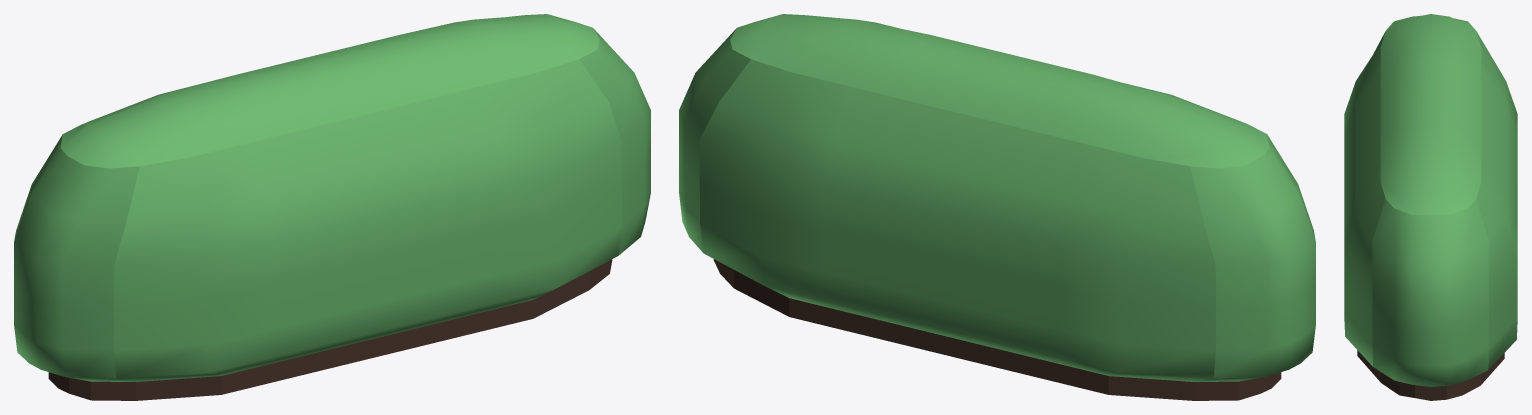
Rendered from hedge.fbx.
The picture shows the model from 3 angles, left to right: view 1: azimuth 30°, elevation 25°; view 2: azimuth 150°, elevation 25°; view 3: azimuth 270°, elevation 25°; orthographic projection. The views are drawn at different scales.
Visible parts, largest first — view 1: pCube1; view 2: pCube1; view 3: pCube1.
Part boxes in pixels (x1,y1,x2,y2): pCube1: (14,14,650,400); pCube1: (679,14,1315,400); pCube1: (1344,14,1517,400).
Size of the model in its own units: 8.28 by 3.38 by 2.59.
Materials: 1 (1 with a texture image).
